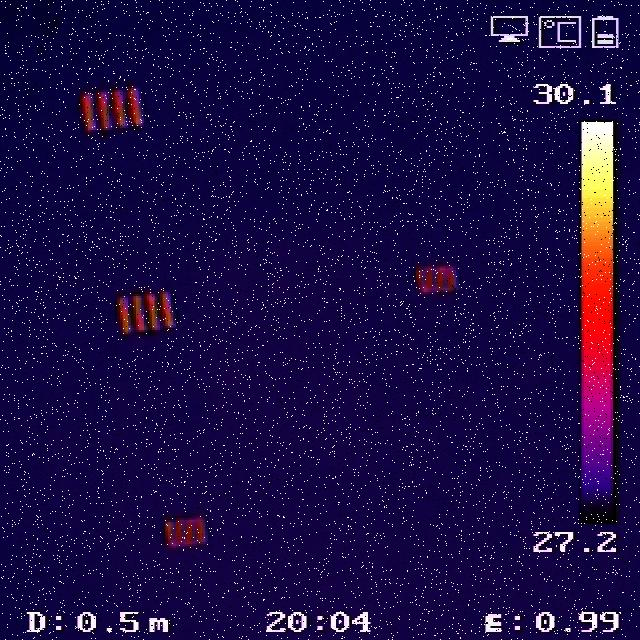Distinguishable 4-bar target: (76, 89, 149, 130), (117, 292, 175, 333)
Indistinguishable 4-bar target: (164, 516, 211, 546), (413, 265, 459, 294)
